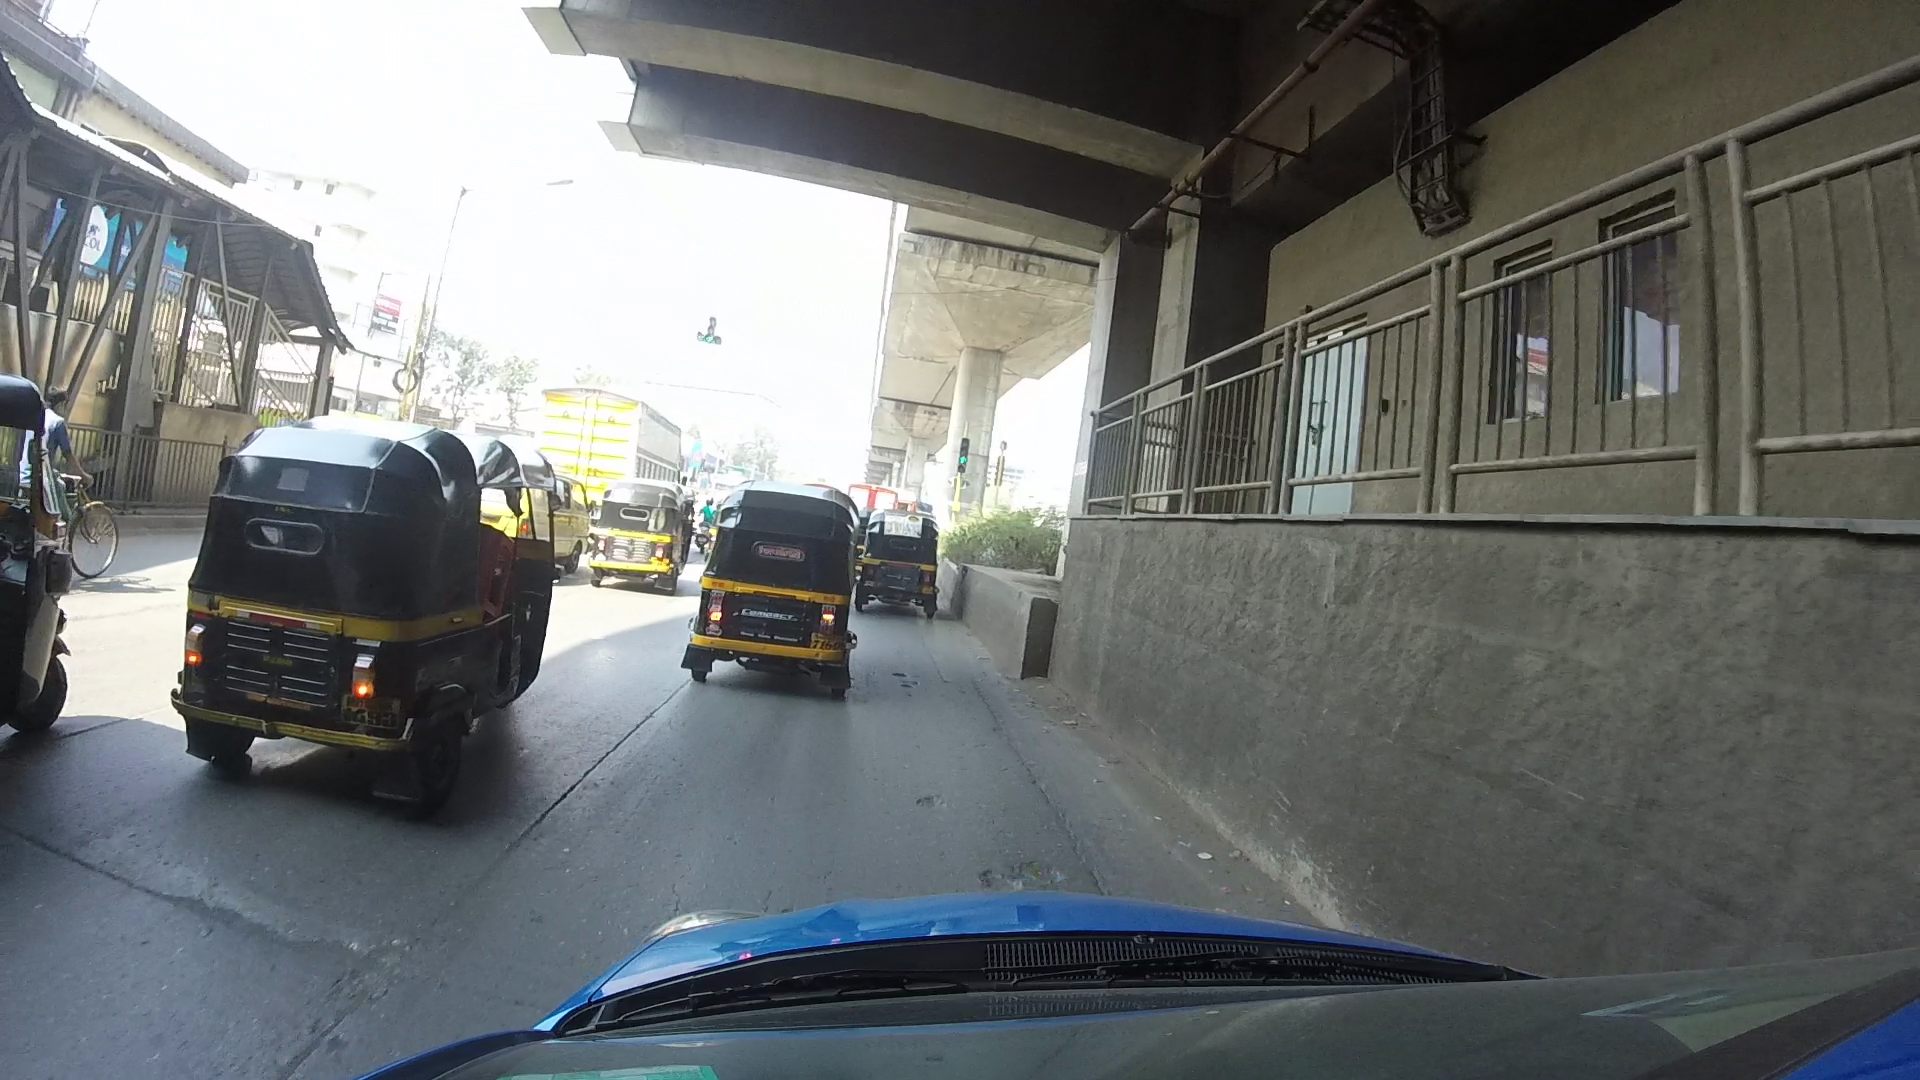rickshaw: (202, 419, 563, 824), (680, 465, 869, 698), (8, 367, 105, 723), (572, 480, 694, 585), (861, 516, 969, 601)
